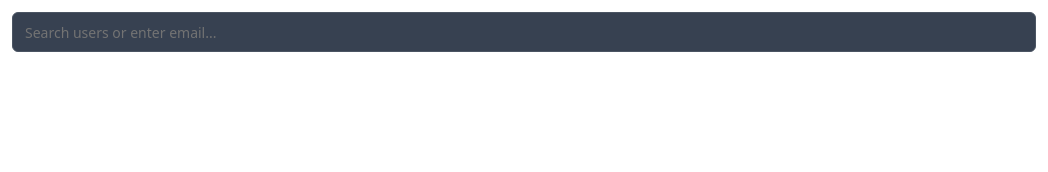
Test: UserPicker › User Selection › should handle keyboard navigation
Later steps or results of the test are not shown.
// Focus and trigger search
In the field with placeholder "Search users or enter email...": (524, 32) [12, 12, 1036, 52], type "Key"
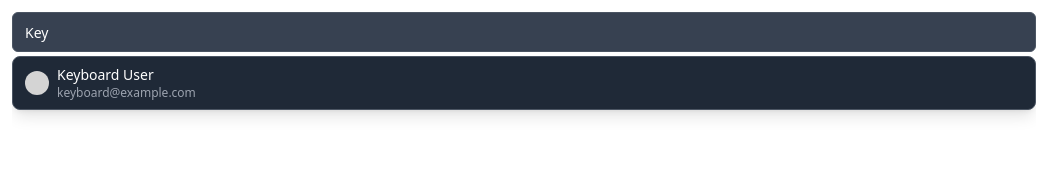
Check: the text "Keyboard User" is shown, box [57, 65, 154, 85]
